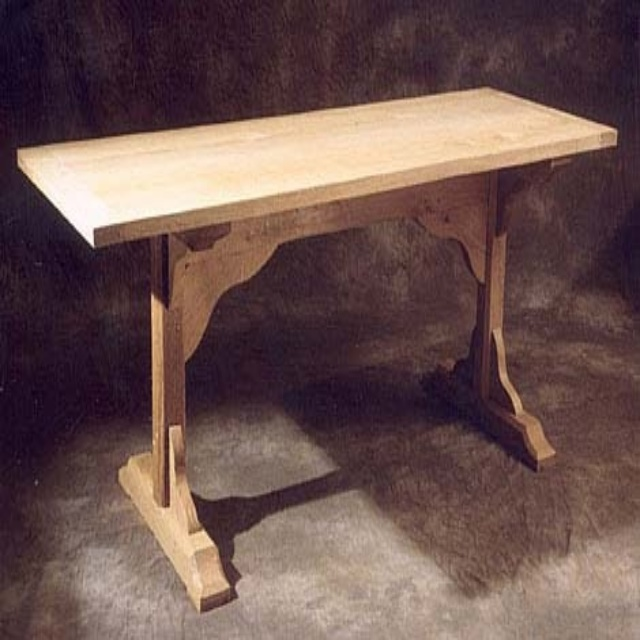obstacle: (18, 87, 615, 610)
